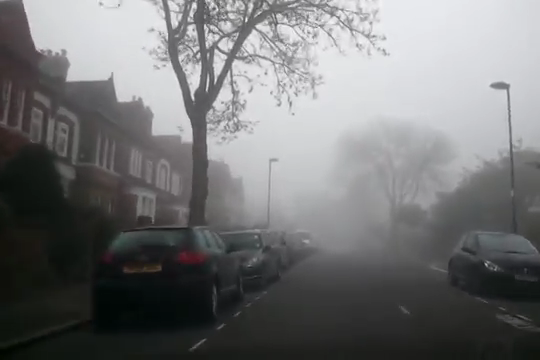car: (90, 225, 241, 325), (446, 229, 540, 301), (197, 228, 283, 293), (242, 229, 295, 273), (277, 228, 316, 261)
